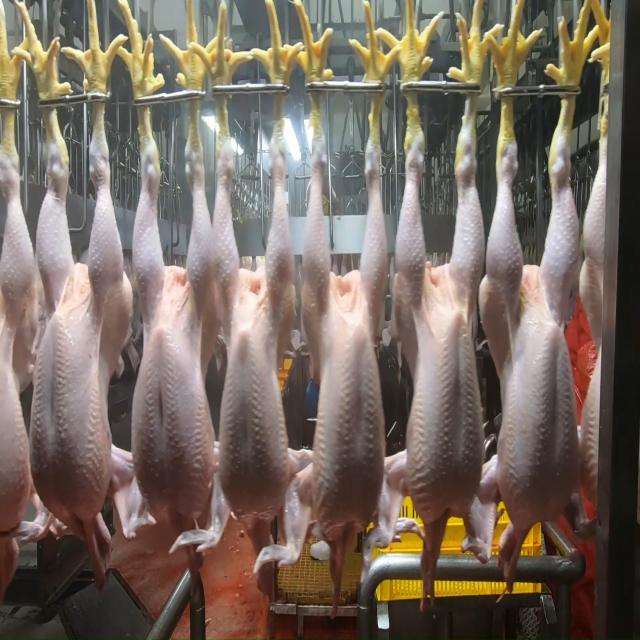chicken: (129, 105, 220, 536), (484, 115, 578, 517), (28, 129, 122, 527), (299, 136, 389, 545), (401, 115, 487, 522), (217, 139, 296, 542), (1, 151, 30, 579)
